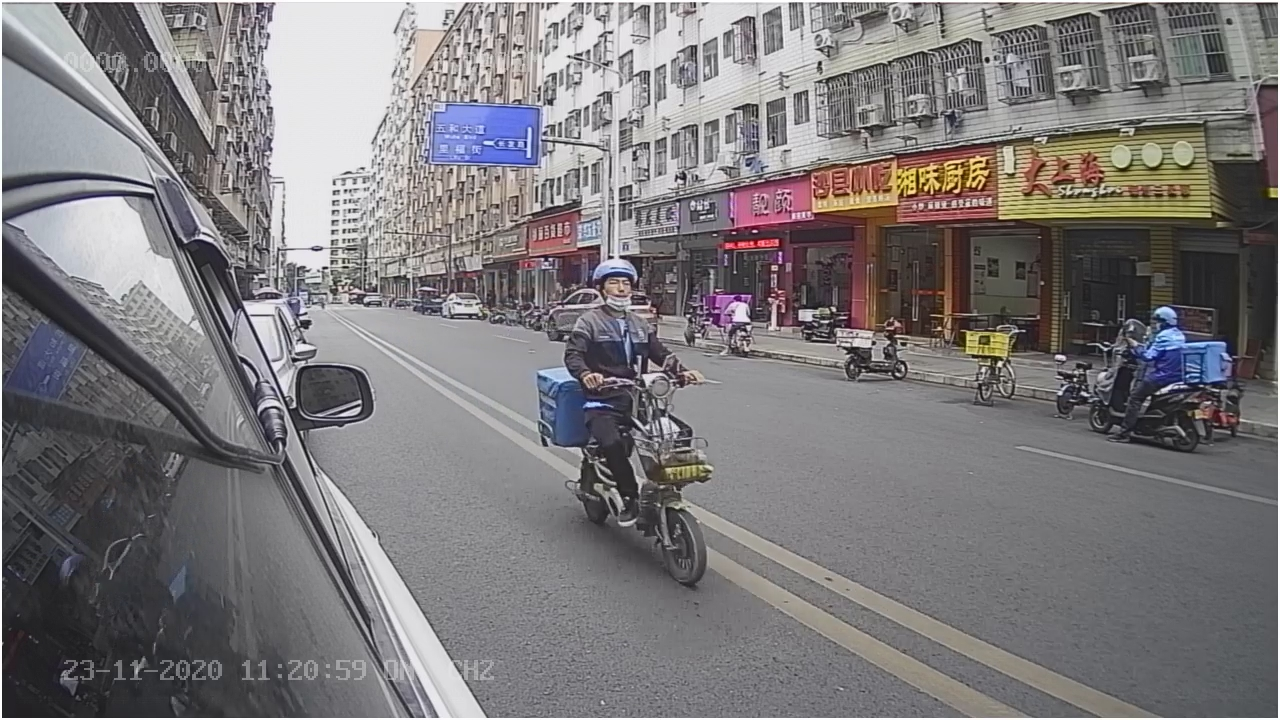person: (555, 252, 694, 376)
